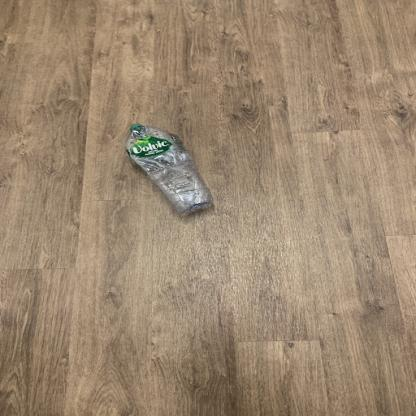trash: (125, 122, 217, 218)
